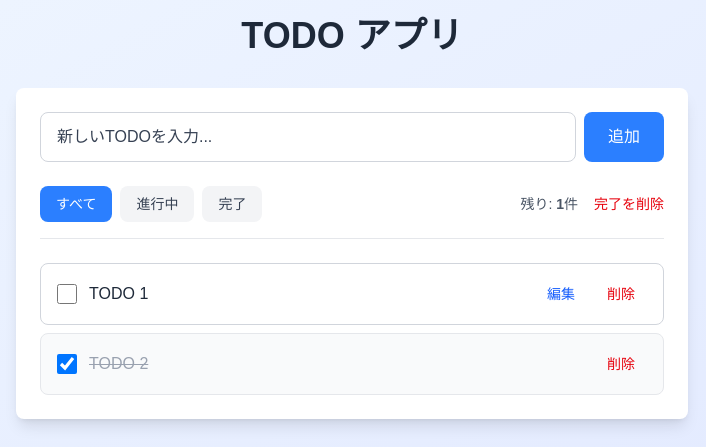
Test: TodoApp › フィルター: 完了
Click the button "完了": (232, 204) [202,186,262,222]
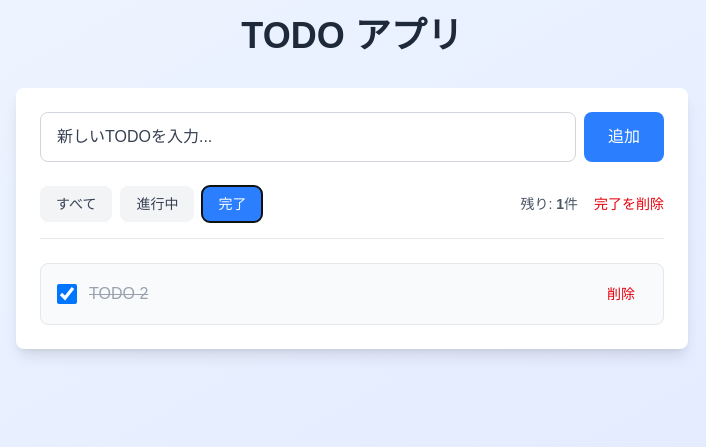
Expected: the text "TODO 2" is shown, [89,285,148,302]
Now the text "TODO 1" is gone
